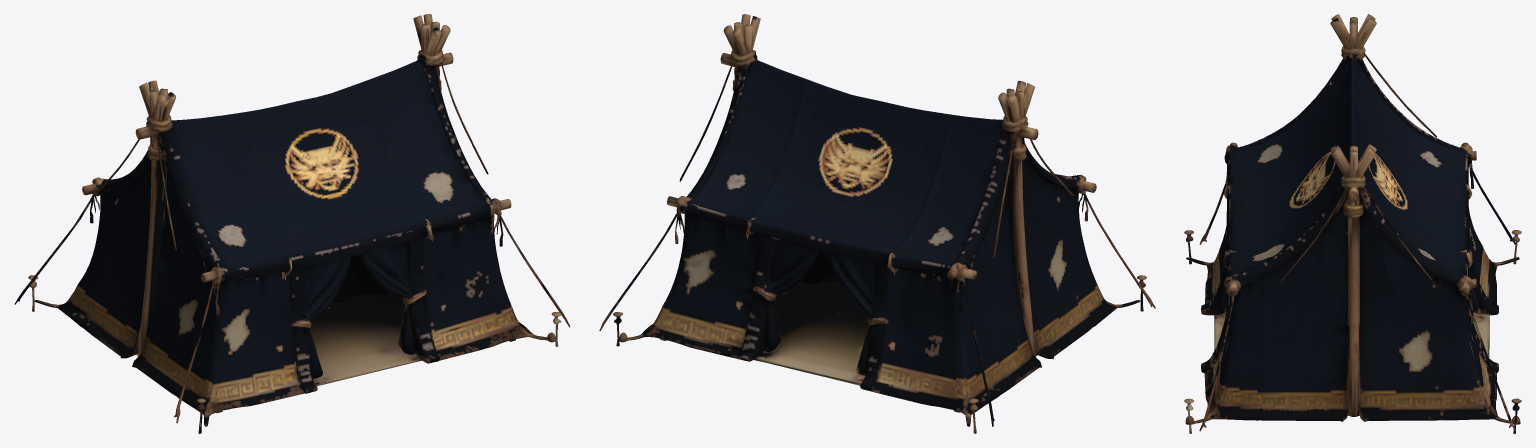
Rendered from tent-black-hy3-v1.glb.
3 renders of one model, left to right at view 1: azimuth 30°, elevation 25°; view 2: azimuth 150°, elevation 25°; view 3: azimuth 270°, elevation 25°, orthographic. The views are drawn at different scales.
Visible parts, largest first — view 1: node_0; view 2: node_0; view 3: node_0.
Part boxes in pixels (x1,y1,x2,y2): node_0: [14, 14, 570, 433]; node_0: [599, 14, 1155, 433]; node_0: [1184, 14, 1521, 433].
Size of the model in its own units: 4.2 by 2.8 by 3.2.
Materials: 1 (1 with a texture image).
